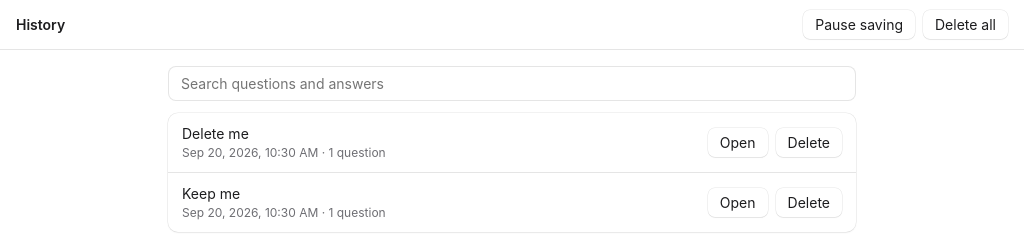
it: Delete removes that chat only
What coordinates should you click on to do the following:
click the button "Delete" in the row of "Delete me"
I would click on:
 (809, 142)
Its box is [776,128,842,157].
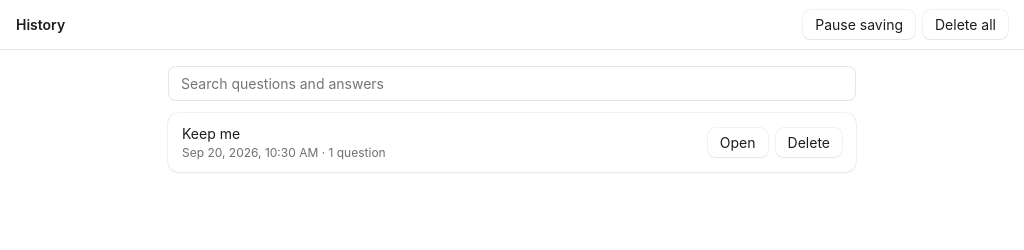
Expected: the list item shows "Keep me", [182,125,240,142]
Expected: the number of list items is 1, [182,125,842,160]
